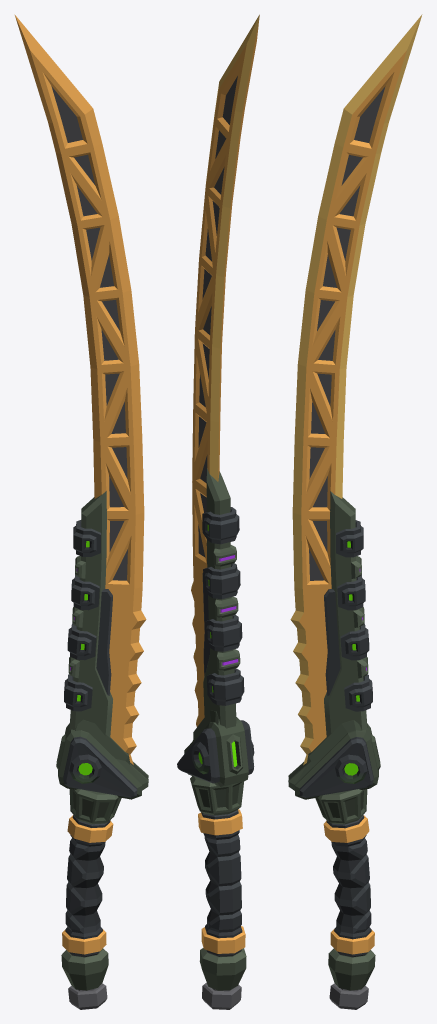
The model's file is SM_Wep_Katana_01.fbx.
The picture shows the model from 3 angles, left to right: view 1: azimuth 90°, elevation 25°; view 2: azimuth 210°, elevation 25°; view 3: azimuth 270°, elevation 25°; orthographic projection. The views are drawn at different scales.
Visible parts, largest first — view 1: SM_Wep_Katana_01; view 2: SM_Wep_Katana_01; view 3: SM_Wep_Katana_01.
Boxes of the visible parts, bbox=[...] form: SM_Wep_Katana_01: bbox=[14, 14, 148, 1009]; SM_Wep_Katana_01: bbox=[177, 14, 259, 1009]; SM_Wep_Katana_01: bbox=[288, 14, 422, 1009].
Bounding box in the file's own units: 26.26 × 513 × 62.91.
